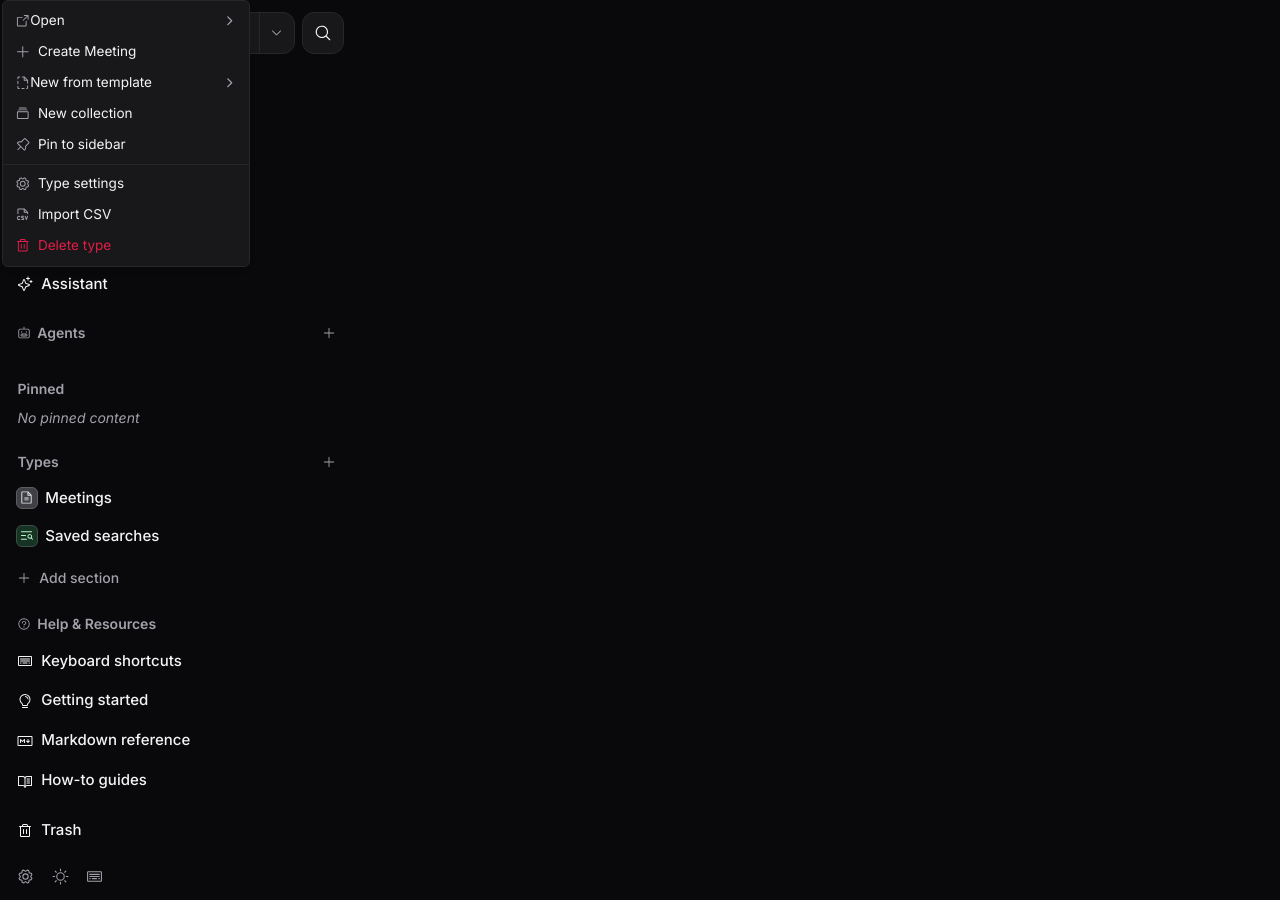
it: Sidebar type context menu › New collection opens the create dialog for the type
Click the menu item "New collection". click: x=74, y=113
box: [15, 105, 132, 121]
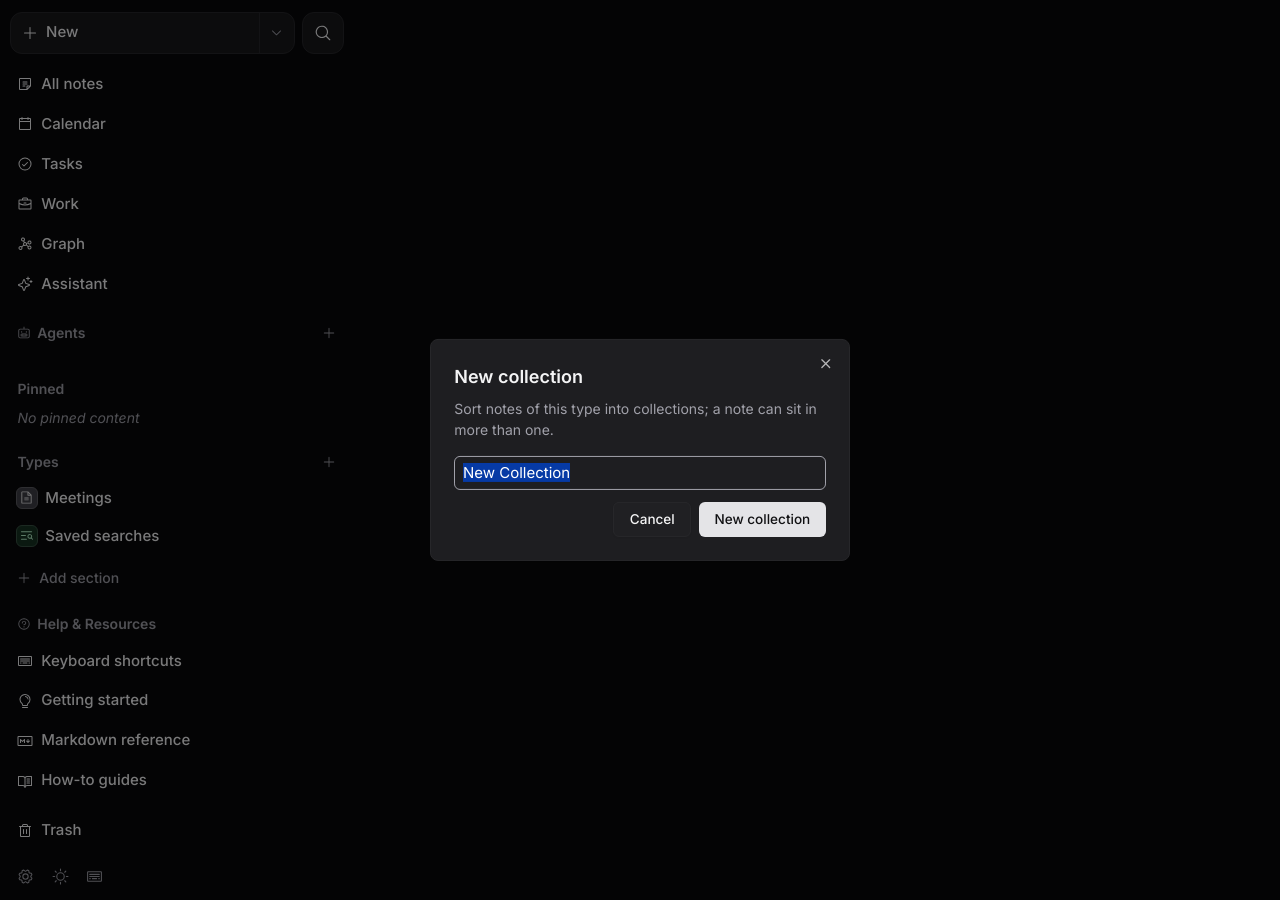
Expected: the heading "New collection" is shown, [454, 366, 583, 387]
